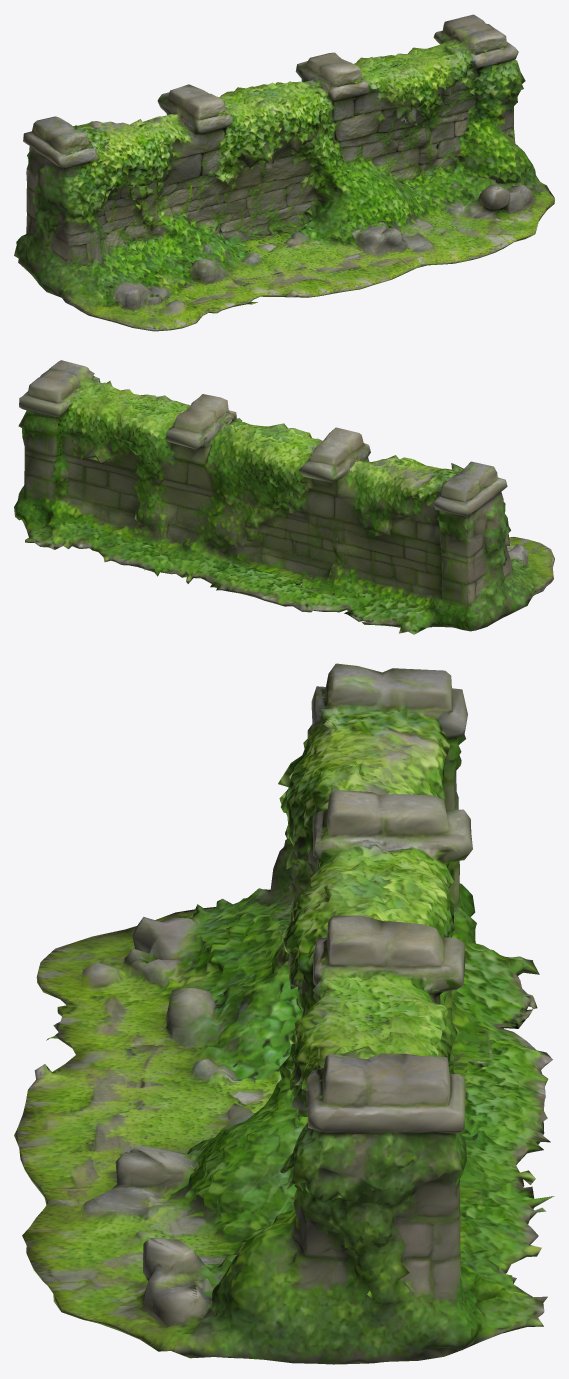
Rendered from wall.fbx.
3 renders of one model, top to bottom at view 1: azimuth 30°, elevation 25°; view 2: azimuth 150°, elevation 25°; view 3: azimuth 270°, elevation 25°, orthographic. The views are drawn at different scales.
Parts seen in each view (by area): view 1: Mesh_0; view 2: Mesh_0; view 3: Mesh_0.
Boxes of the visible parts, x1,y1,x2,y2 form: Mesh_0: (14,14,554,331); Mesh_0: (14,360,554,634); Mesh_0: (14,663,554,1364).
Bounding box in the file's own units: 200 × 57.74 × 100.
1 material, 1 textured.
